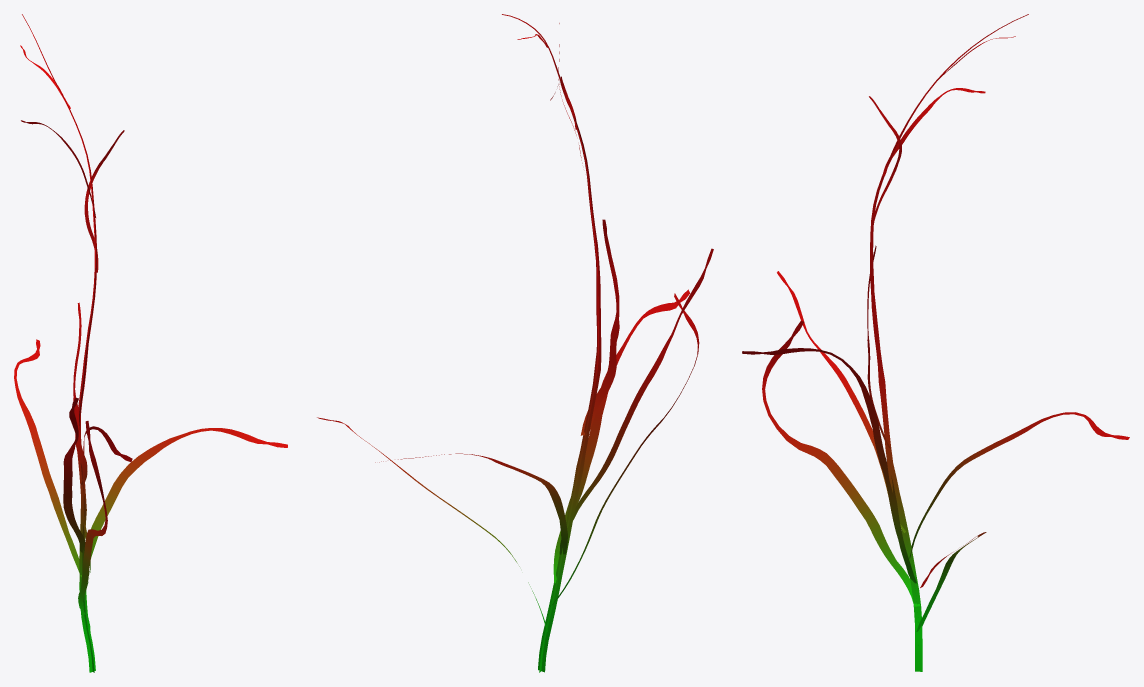
The model's file is tefocd1r_Var10_LOD0.fbx.
The picture shows the model from 3 angles, left to right: view 1: azimuth 30°, elevation 25°; view 2: azimuth 150°, elevation 25°; view 3: azimuth 270°, elevation 25°; orthographic projection. The views are drawn at different scales.
Visible parts, largest first — view 1: _232c_Var10_LOD0; view 2: _232c_Var10_LOD0; view 3: _232c_Var10_LOD0.
Boxes of the visible parts, bbox=[...] form: _232c_Var10_LOD0: bbox=[14, 14, 287, 672]; _232c_Var10_LOD0: bbox=[317, 14, 713, 672]; _232c_Var10_LOD0: bbox=[742, 14, 1129, 671].
Bounding box in the file's own units: 16.18 × 34.21 × 18.53.
